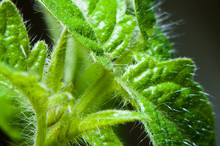tomato: (1, 2, 212, 146)
